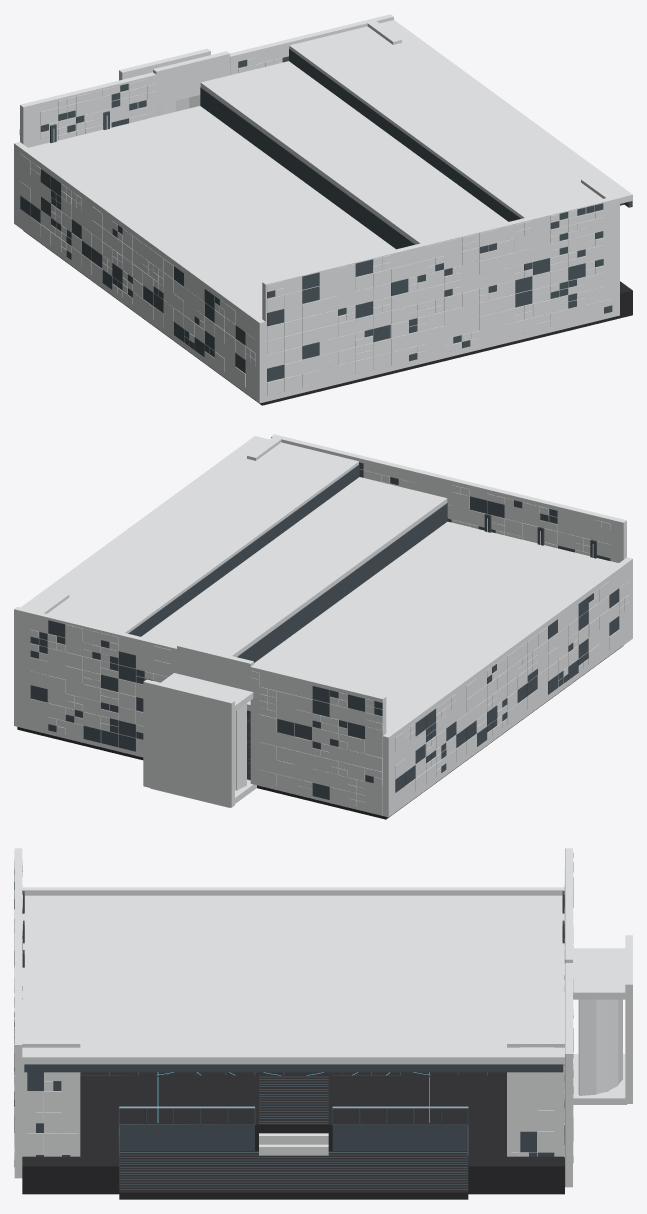
The model's file is SM_Bridge_Shell.fbx.
3 views of the same model, one above another, from view 1: azimuth 30°, elevation 25°; view 2: azimuth 150°, elevation 25°; view 3: azimuth 270°, elevation 25° (orthographic). The views are drawn at different scales.
Parts seen in each view (by area): view 1: SM_Bridge_Shell; view 2: SM_Bridge_Shell; view 3: SM_Bridge_Shell.
Part boxes in pixels (left/top/right/bottom): SM_Bridge_Shell: left=14, top=14, right=632, bottom=405; SM_Bridge_Shell: left=14, top=434, right=632, bottom=819; SM_Bridge_Shell: left=14, top=848, right=632, bottom=1199.
Bounding box in the file's own units: 2556 × 850 × 3193.
